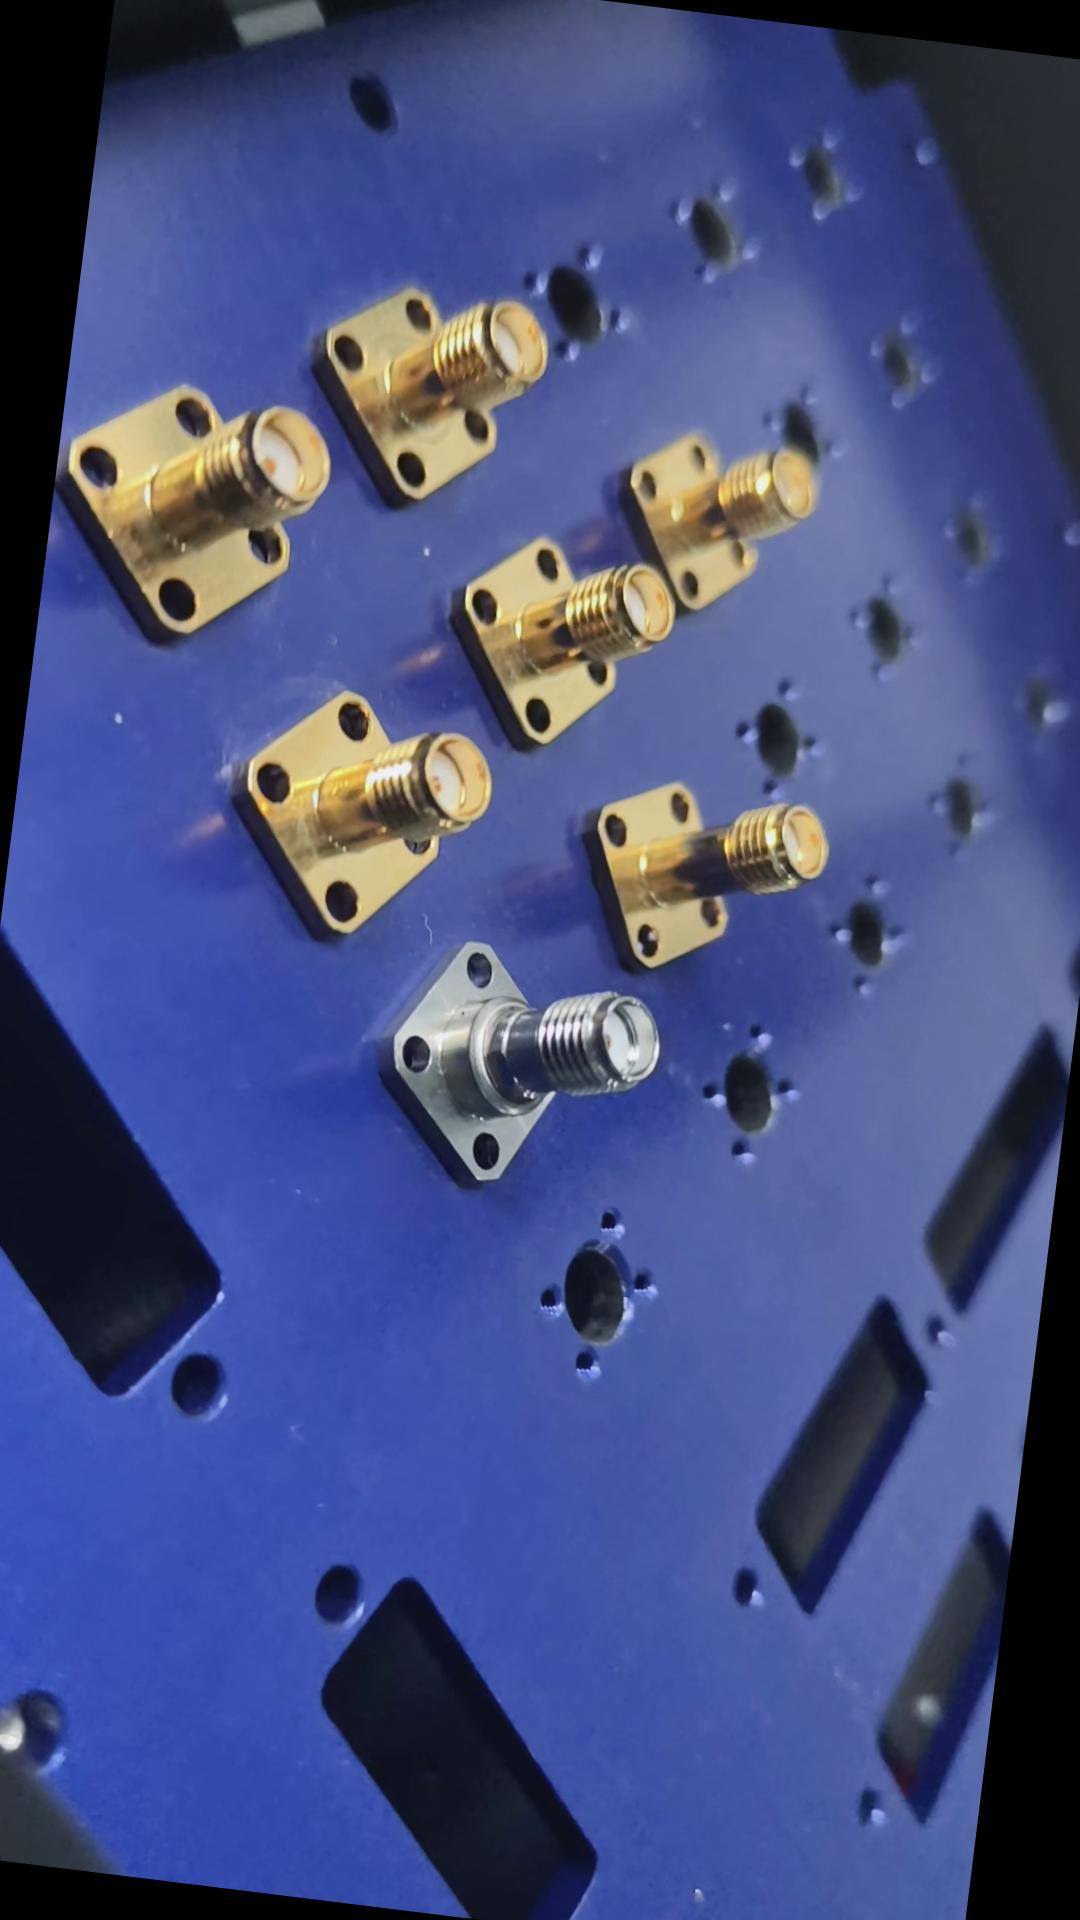SMA: (44, 363, 356, 659), (368, 913, 676, 1200), (215, 663, 501, 951), (301, 252, 554, 522), (580, 754, 844, 992), (440, 502, 665, 758), (611, 413, 833, 636)
